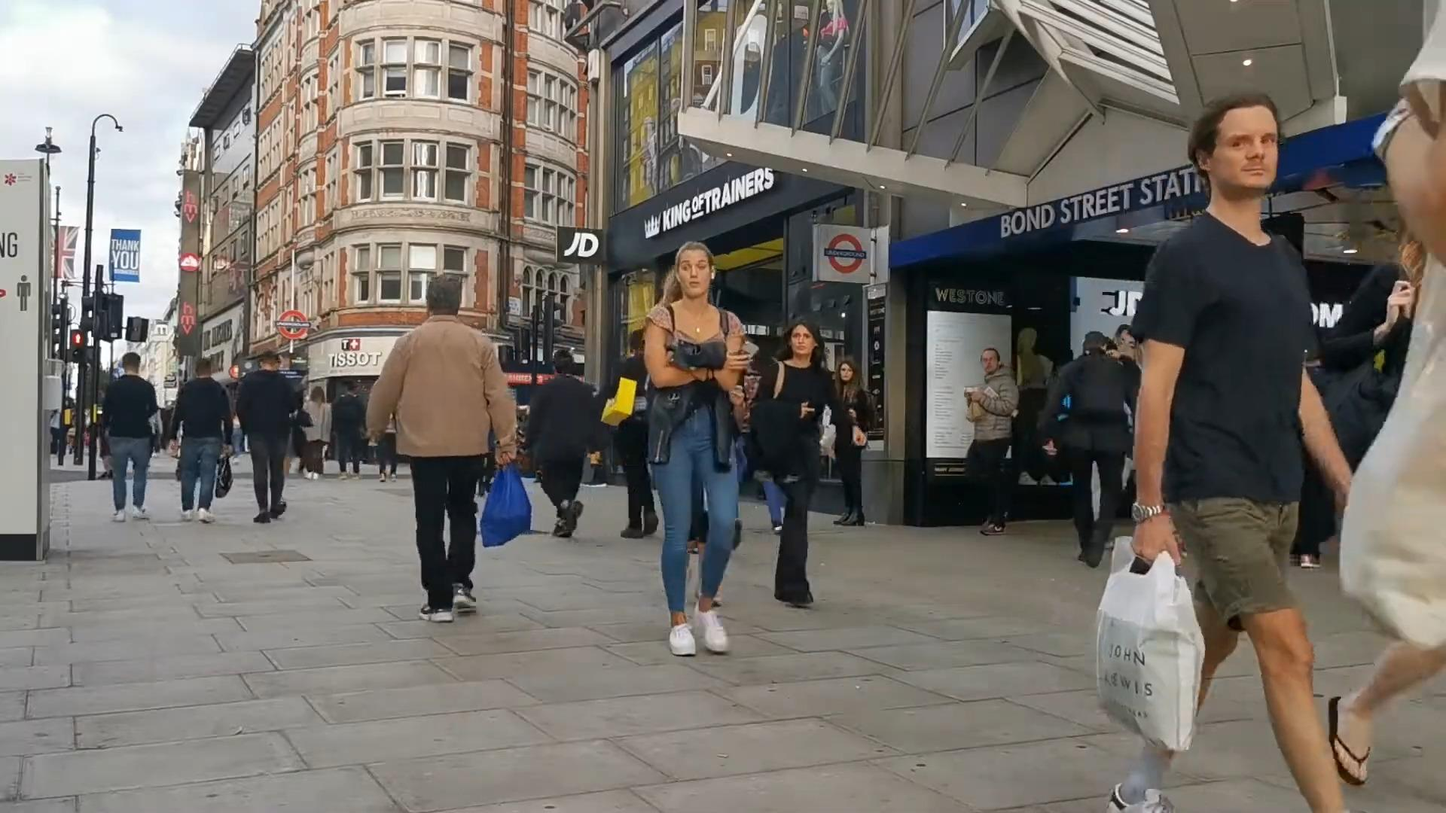no-helmet: (1188, 91, 1281, 197), (667, 241, 716, 303), (782, 317, 824, 360), (426, 275, 462, 315), (835, 355, 861, 385), (552, 349, 576, 378), (980, 348, 1001, 374), (258, 350, 282, 369), (122, 352, 141, 375), (195, 357, 212, 378), (662, 304, 668, 304)
